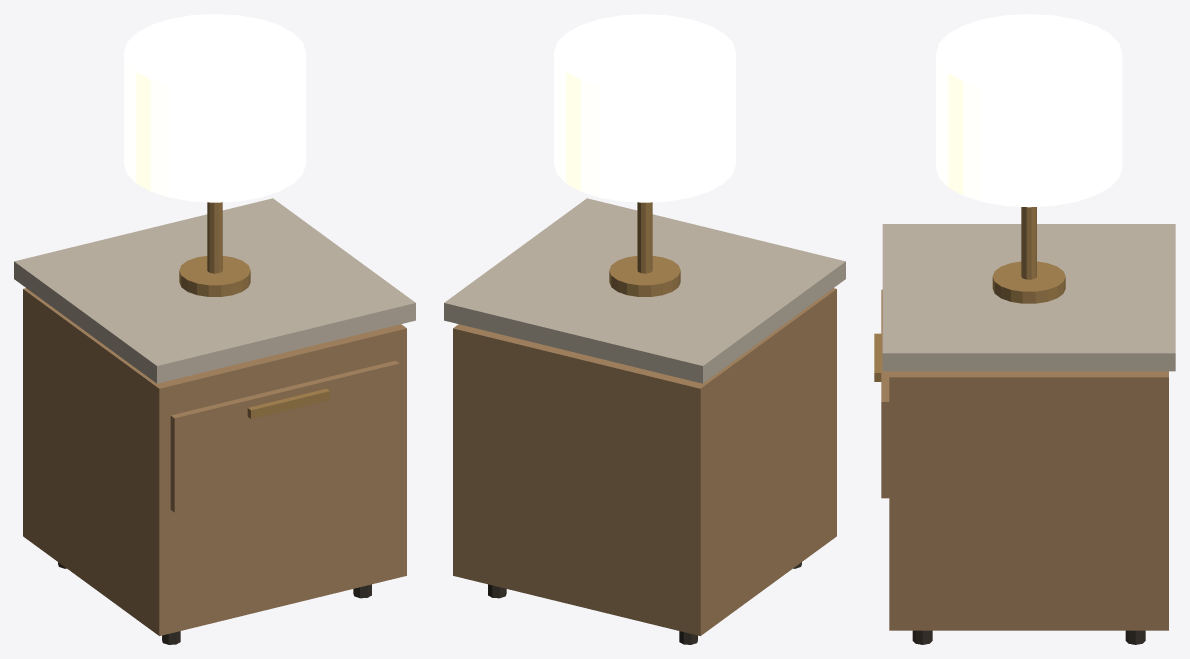
The picture shows the model from 3 angles, left to right: view 1: azimuth 30°, elevation 25°; view 2: azimuth 150°, elevation 25°; view 3: azimuth 270°, elevation 25°; orthographic projection. The views are drawn at different scales.
Parts seen in each view (by area): view 1: bedside-table; view 2: bedside-table; view 3: bedside-table.
Part boxes in pixels (<box>): bedside-table: <box>14,14,415,644</box>; bedside-table: <box>444,14,845,644</box>; bedside-table: <box>874,14,1175,644</box>.
Size of the model in its own units: 0.46 by 0.895 by 0.4525.
